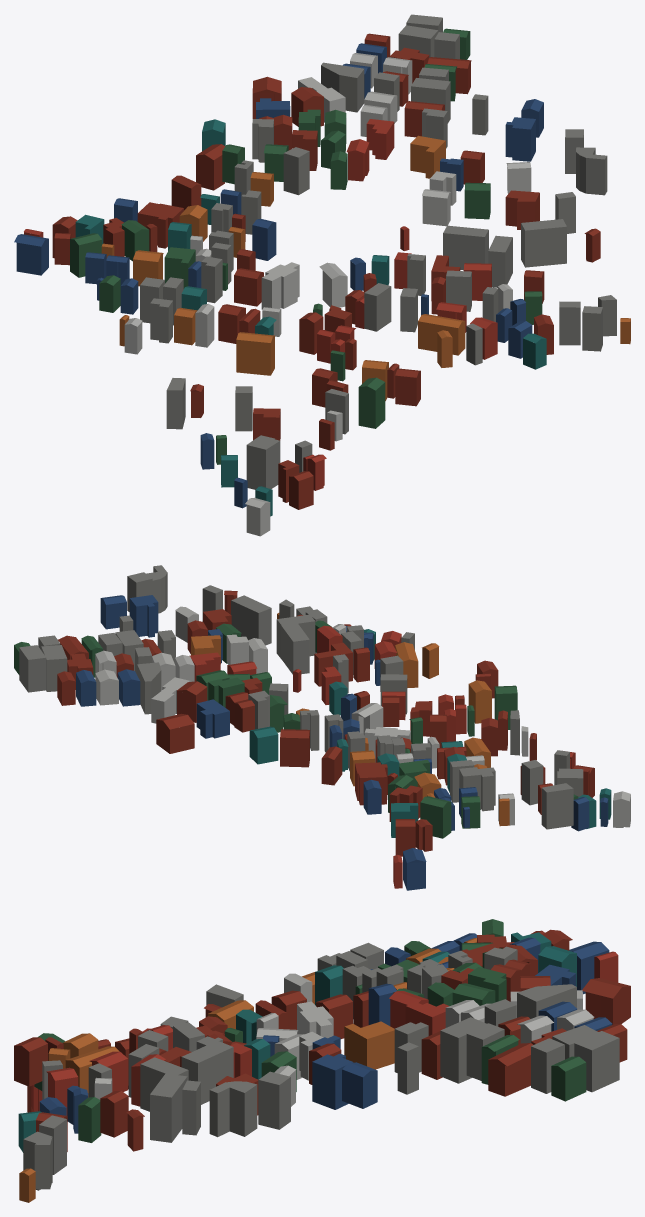
File: near-17-109447-59483.f9045335.glb
3 views of the same model, one above another, from view 1: azimuth 30°, elevation 25°; view 2: azimuth 150°, elevation 25°; view 3: azimuth 270°, elevation 25° (orthographic). The views are drawn at different scales.
Size of the model in its own units: 310 by 166 by 303.
